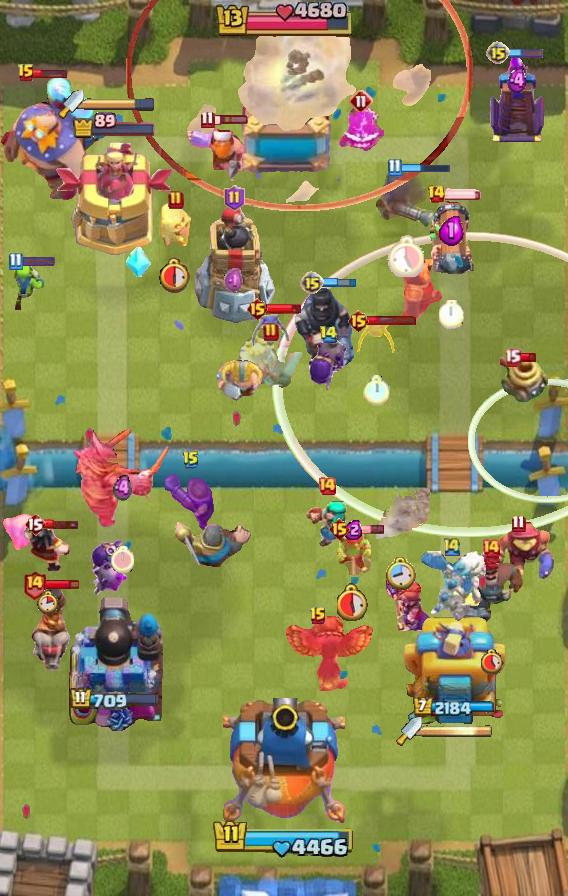bar: (399, 162, 451, 174), (367, 315, 417, 326), (444, 188, 482, 200), (45, 578, 80, 591), (212, 114, 249, 126), (44, 518, 80, 530), (266, 303, 302, 315), (508, 47, 544, 59), (33, 67, 68, 79), (348, 524, 385, 535), (20, 256, 56, 267), (322, 277, 357, 288), (518, 352, 537, 363)
bar-level: (22, 569, 47, 600), (300, 271, 324, 295), (349, 89, 373, 113), (486, 41, 510, 65), (328, 517, 351, 541), (347, 309, 370, 333), (246, 297, 269, 321), (224, 185, 245, 211), (24, 512, 46, 536), (442, 536, 462, 557), (481, 538, 501, 558), (317, 476, 337, 496), (427, 184, 446, 204), (319, 325, 338, 344), (309, 606, 327, 626), (182, 450, 200, 470), (17, 63, 35, 83), (504, 348, 521, 367), (263, 322, 279, 342), (168, 190, 184, 210), (511, 514, 526, 533), (8, 252, 23, 271), (387, 158, 402, 177), (200, 110, 215, 129)
bat-evolution: (250, 310, 294, 350), (356, 318, 396, 356)
bomber-evolution: (305, 332, 351, 396), (89, 540, 129, 598)
cannoneer-tower: (65, 593, 163, 731)
clock: (387, 235, 424, 277), (159, 256, 193, 293), (337, 583, 369, 621), (385, 557, 416, 592), (363, 375, 390, 406), (439, 300, 464, 329), (479, 648, 504, 674), (111, 546, 134, 573), (37, 590, 58, 614)
dagger-duchess-tower: (55, 142, 174, 256), (401, 611, 505, 731)
dagger-duchess-tower-bar: (84, 97, 156, 111), (422, 724, 492, 738)
dirt: (370, 488, 430, 546)
electro-spirit: (335, 104, 387, 158)
electro-wizard: (21, 520, 73, 574)
elite-barbarian: (216, 358, 264, 401)
elixir: (439, 214, 464, 246), (507, 66, 528, 95), (224, 267, 245, 294), (113, 474, 132, 503), (344, 519, 363, 540)
goblin: (8, 266, 46, 310)
heal-spirit: (158, 201, 194, 251)
hunter: (456, 548, 526, 626)
ice-spirit-evolution: (0, 512, 50, 550)
ice-spirit-evolution-symbol: (126, 247, 152, 279)
king-tower: (228, 41, 340, 181), (223, 698, 345, 826)
king-tower-bar: (212, 818, 356, 860), (213, 2, 355, 40)
knight: (170, 521, 256, 573), (401, 259, 444, 325)
lumberjack: (186, 117, 250, 181)
musketeer: (374, 165, 436, 229), (165, 473, 217, 531)
ram-rider: (30, 585, 74, 671)
rascal-girl: (303, 501, 351, 549)
royal-ghost: (237, 333, 305, 401)
spear-goblin: (335, 527, 371, 575)
tower-bar: (72, 112, 157, 139), (69, 687, 160, 712), (412, 697, 494, 718)
valkyrie-evolution: (384, 573, 432, 633)
zappy: (500, 354, 548, 402)
